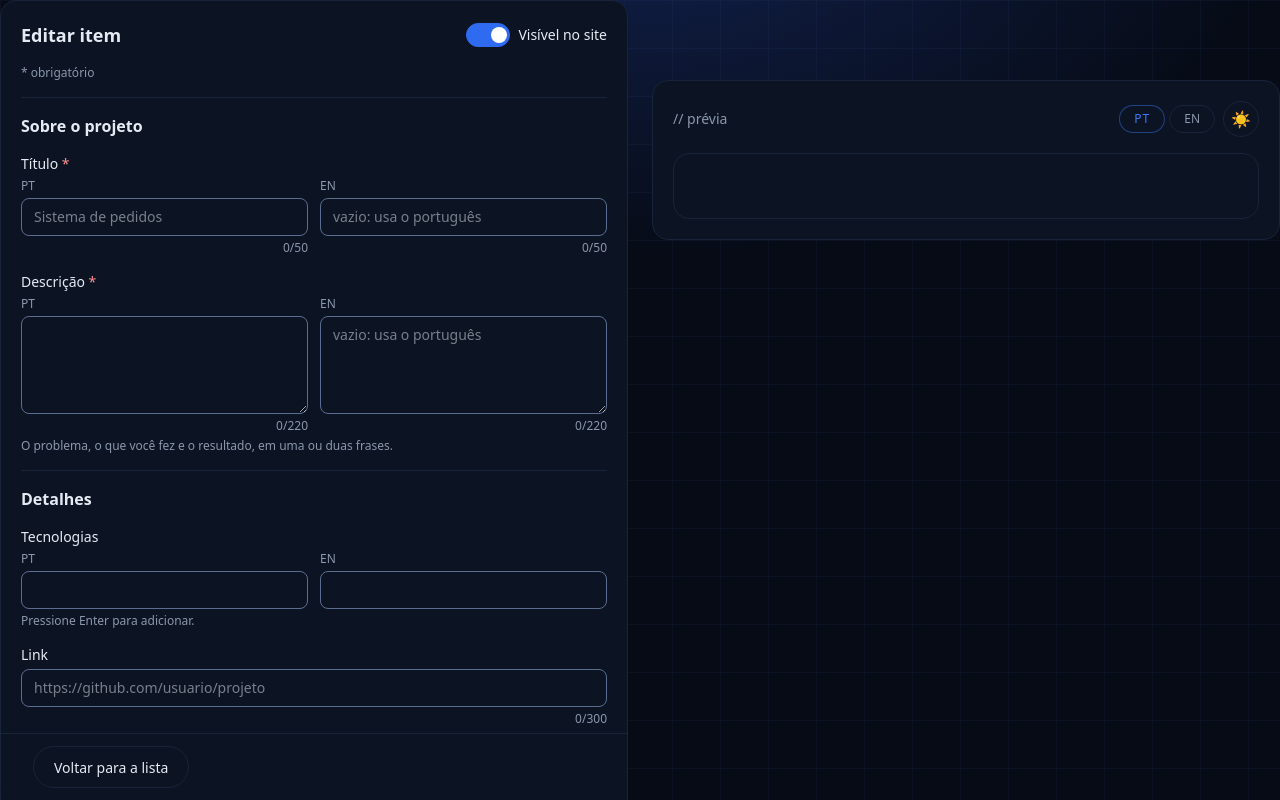
guardas do editor › 'falta traduzir' não aparece com português vazio; aparece quando ele é preenchido
Expected: the text "falta traduzir" is not shown
Type "Pedidos" into the field named "Título em português" at (164,217), box [21,198,308,236]
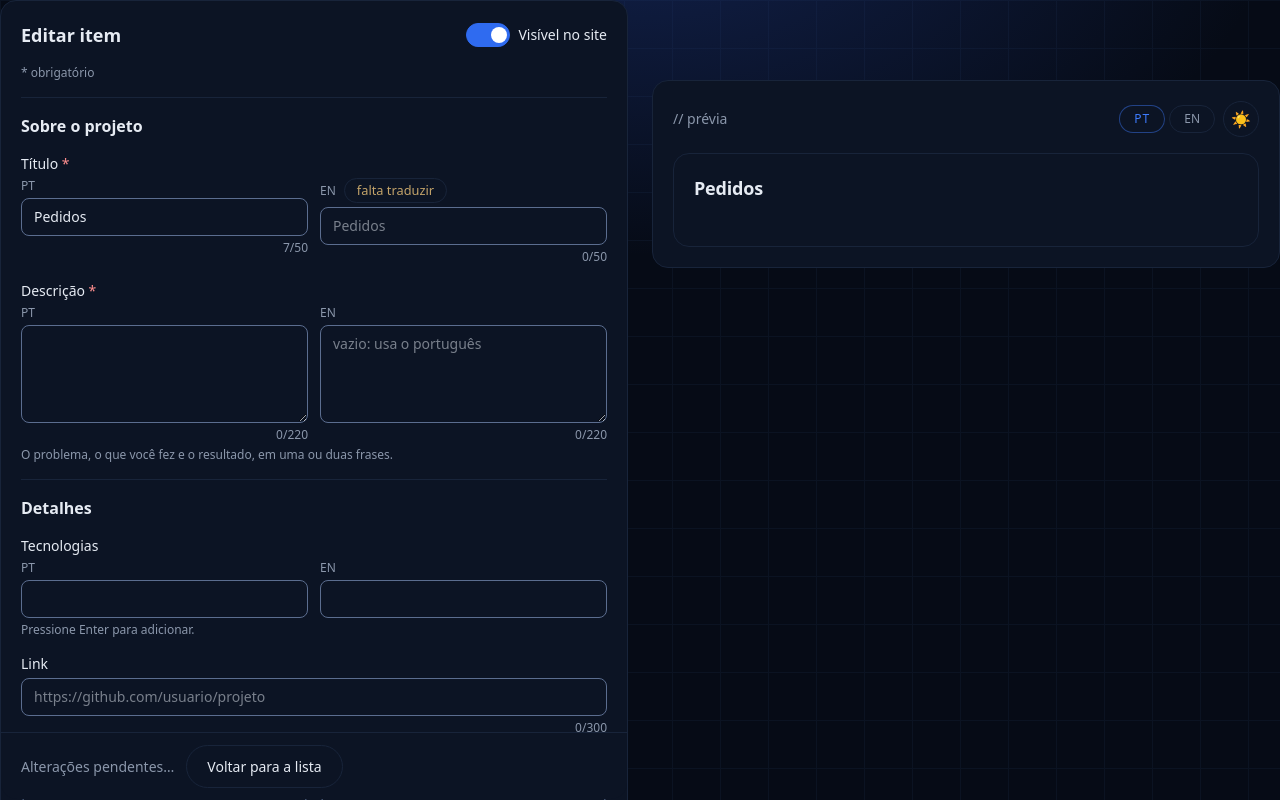
Expected: the text "falta traduzir" is shown once, [344,178,447,203]
